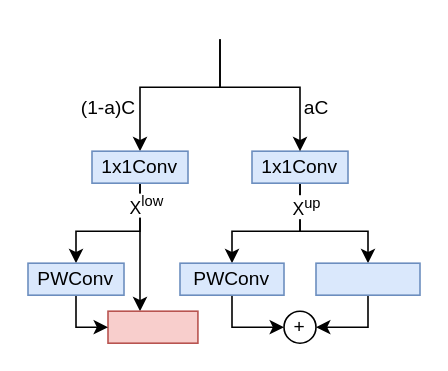
The diagram is 448 pixels wide and 371 high, and some of its shapes have lost their labels. Here are the shapes that lost their labels. From the top down, the centre of each, then its label:
At pixel 367 278: "GWConv".
At pixel 152 326: "concat".
